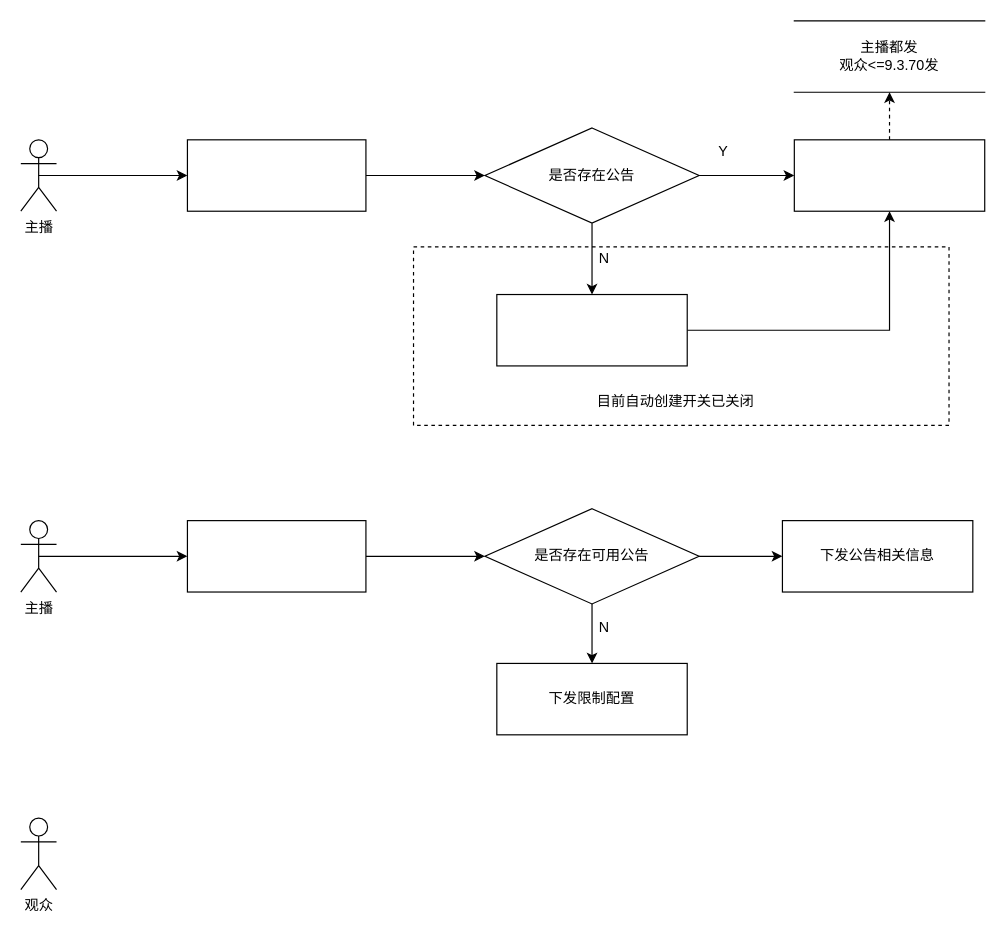
The diagram is 1006 pixels wide and 935 high, and some of its shapes have lost their labels. Here are the shapes that lost their labels. From the top down, the centre of each, then its label:
the point at 276,175: 开播
the point at 889,175: 根据版本发送信令
the point at 591,329: 自动创建
the point at 276,555: 获取公告信息
